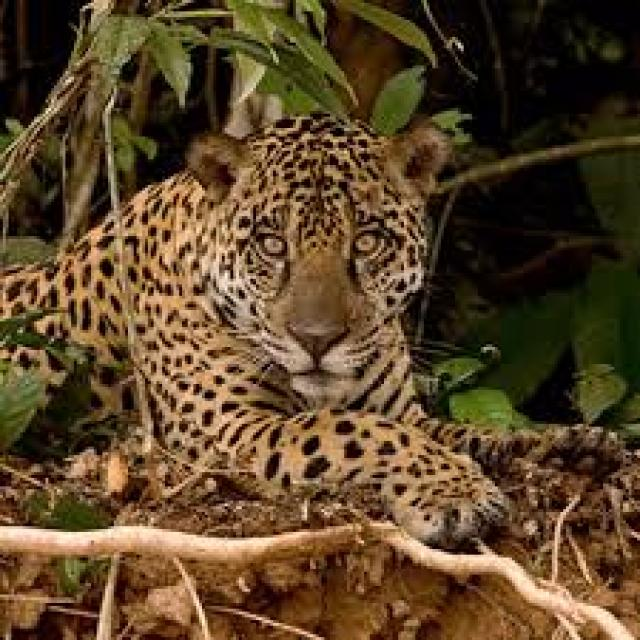Jaguar: (3, 102, 520, 552)
